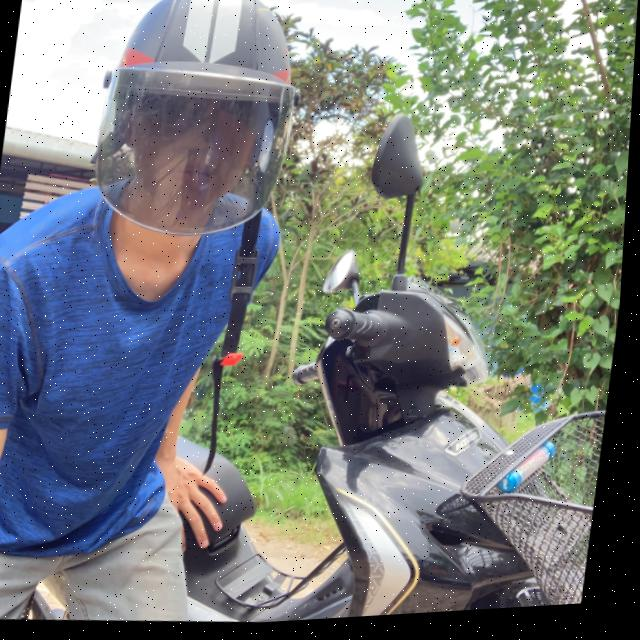illegal_helmet: (46, 0, 323, 496)
